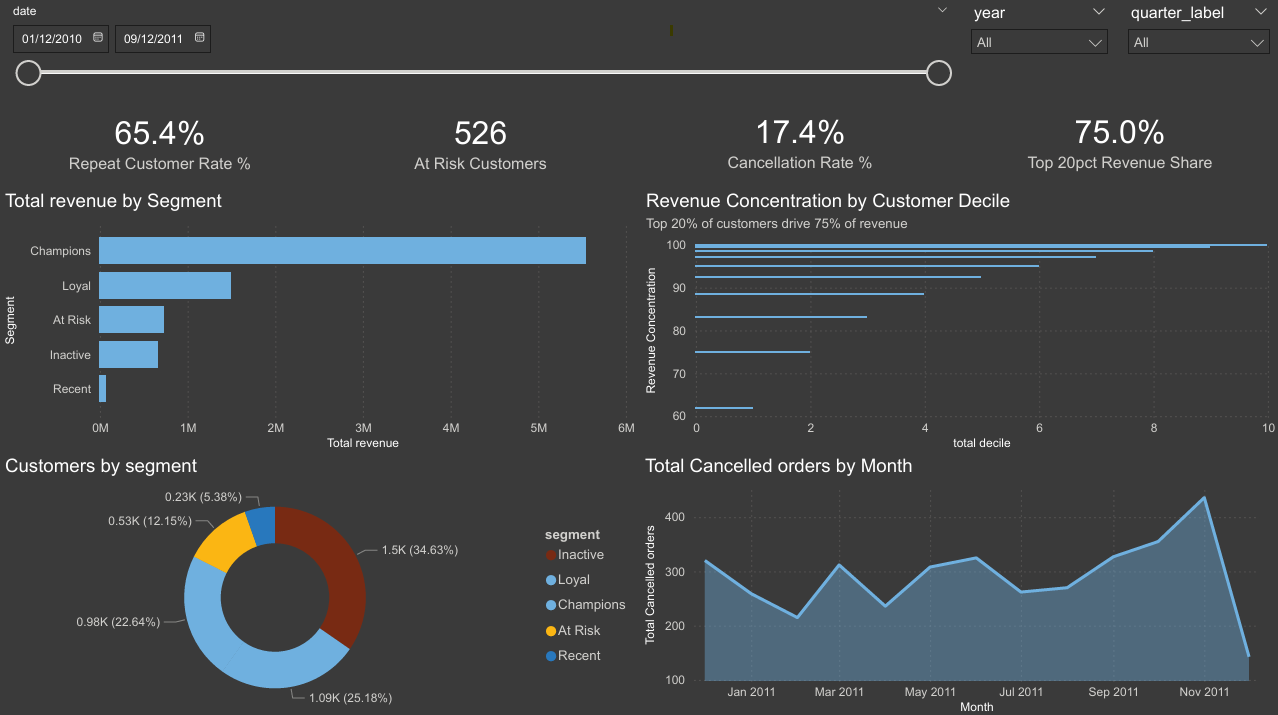

This screenshot's page, from the dashboard's own definition file:
{"tool":"powerbi","page":{"name":"Customer Analysis","canvas":[1280,720],"ordinal":2},"visuals":[{"type":"card","title":"Repeat Customer Rate%","fields":{"Values":["online_retail vw_dim_product.Repeat Customer Rate %"]},"box":[0,113.8,320,96.3],"z":0},{"type":"card","title":"At Risk Customers","fields":{"Values":["online_retail vw_dim_product.At Risk Customers"]},"box":[320,113.8,320,96.3],"z":1000},{"type":"card","title":"Cancellation Rate %","fields":{"Values":["online_retail vw_dim_product.Cancellation Rate %"]},"box":[640,113.8,320,96.3],"z":2000},{"type":"card","title":"Top 20% Revenue Share","fields":{"Values":["online_retail vw_dim_product.Top 20pct Revenue Share"]},"box":[955.1,113.8,324.9,96.3],"z":3000},{"type":"clusteredBarChart","title":"Total Revenue by rfm segment","fields":{"Category":["online_retail vw_dim_customer.rfm_segment"],"Y":["online_retail vw_dim_product.Total Revenue"]},"box":[0,210.1,640,248],"z":4000},{"type":"lineChart","title":"Cumulative Revenue % by revenue decile","fields":{"Category":["online_retail vw_dim_customer.revenue_decile"],"Y":["online_retail vw_dim_product.Cumulative Revenue %"]},"box":[640.5,210.4,639.5,247.7],"z":5000},{"type":"donutChart","title":"Count of customer_id by rfm segment","fields":{"Category":["online_retail vw_dim_customer.rfm_segment"],"Y":["CountNonNull(online_retail vw_dim_customer.customer_id)"]},"box":[0,458.1,640,261.6],"z":6000},{"type":"clusteredColumnChart","fields":{"Category":["online_retail dim_date.year_month.Variation.Date Hierarchy.Month","online_retail dim_date.year_month.Variation.Date Hierarchy.Day","online_retail vw_fact_orders.is_cancellation"],"Y":["online_retail vw_dim_product.Total Cancelled Value"]},"box":[640.5,458.1,639.5,261.2],"z":7000},{"type":"slicer","fields":{"Values":["online_retail dim_date.date"]},"box":[0,0,1008.6,113.8],"z":8000},{"type":"slicer","fields":{"Values":["online_retail dim_date.quarter"]},"box":[1008.6,0,137.1,113.8],"z":9000},{"type":"slicer","fields":{"Values":["online_retail dim_date.year"]},"box":[1145.8,0,134.2,113.8],"z":10000}]}

Visuals, with their boxes in screenshot pixels (x1, y1, x2, y2), scaled from the page's 1280x720 canvas onto the 1278x715 screenshot:
"Repeat Customer Rate%" card: (0, 113, 320, 209)
"At Risk Customers" card: (320, 113, 639, 209)
"Cancellation Rate %" card: (639, 113, 958, 209)
"Top 20% Revenue Share" card: (954, 113, 1277, 209)
"Total Revenue by rfm segment" clusteredBarChart: (0, 209, 639, 455)
"Cumulative Revenue % by revenue decile" lineChart: (639, 209, 1277, 455)
"Count of customer_id by rfm segment" donutChart: (0, 455, 639, 714)
clusteredColumnChart - online_retail dim_date.year_month.Variation.Date Hierarchy.Month x online_retail dim_date.year_month.Variation.Date Hierarchy.Day: (639, 455, 1277, 714)
slicer - online_retail dim_date.date: (0, 0, 1007, 113)
slicer - online_retail dim_date.quarter: (1007, 0, 1144, 113)
slicer - online_retail dim_date.year: (1144, 0, 1277, 113)
